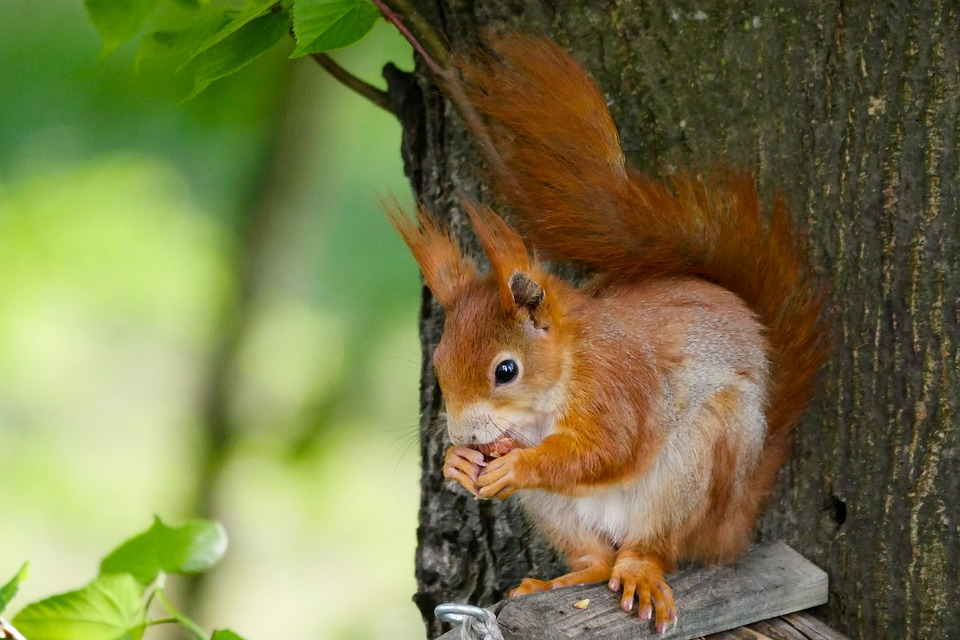Ardilla: (379, 192, 807, 589)
